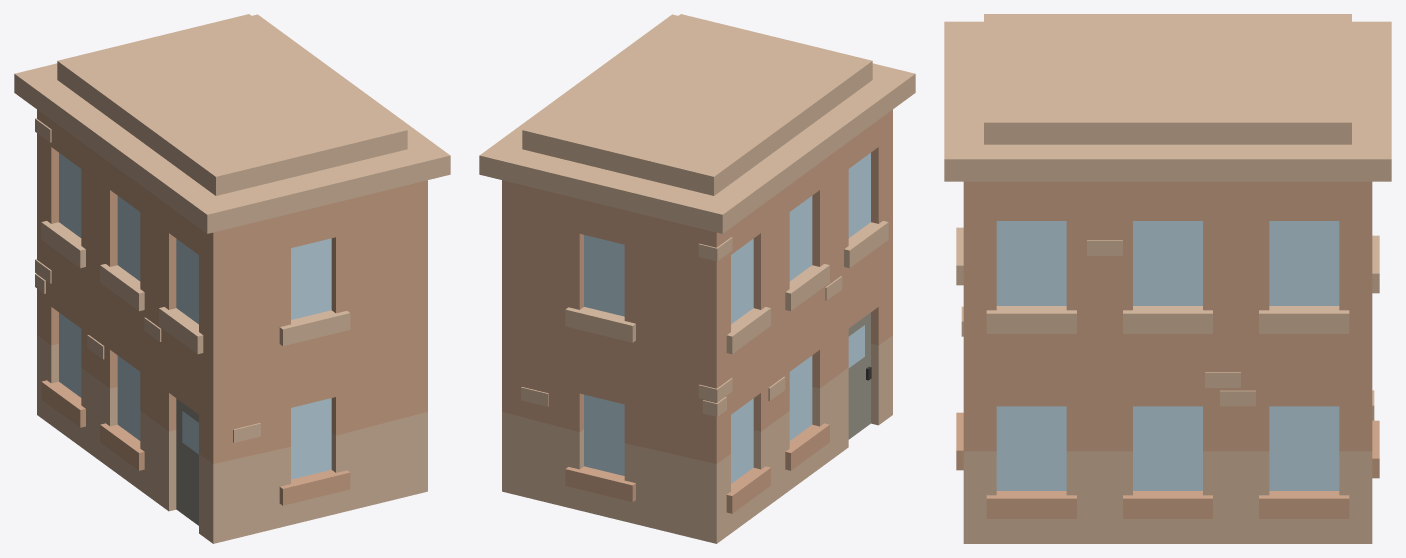
Rendered from Building_5.fbx.
The picture shows the model from 3 angles, left to right: view 1: azimuth 30°, elevation 25°; view 2: azimuth 150°, elevation 25°; view 3: azimuth 270°, elevation 25°; orthographic projection. The views are drawn at different scales.
Visible parts, largest first — view 1: Building_5; view 2: Building_5; view 3: Building_5.
Part boxes in pixels (left/top/right/bottom): Building_5: left=14, top=14, right=450, bottom=543; Building_5: left=479, top=14, right=915, bottom=543; Building_5: left=944, top=14, right=1391, bottom=543.
Size of the model in its own units: 12.75 by 17.92 by 17.5.
1 material, 1 textured.
